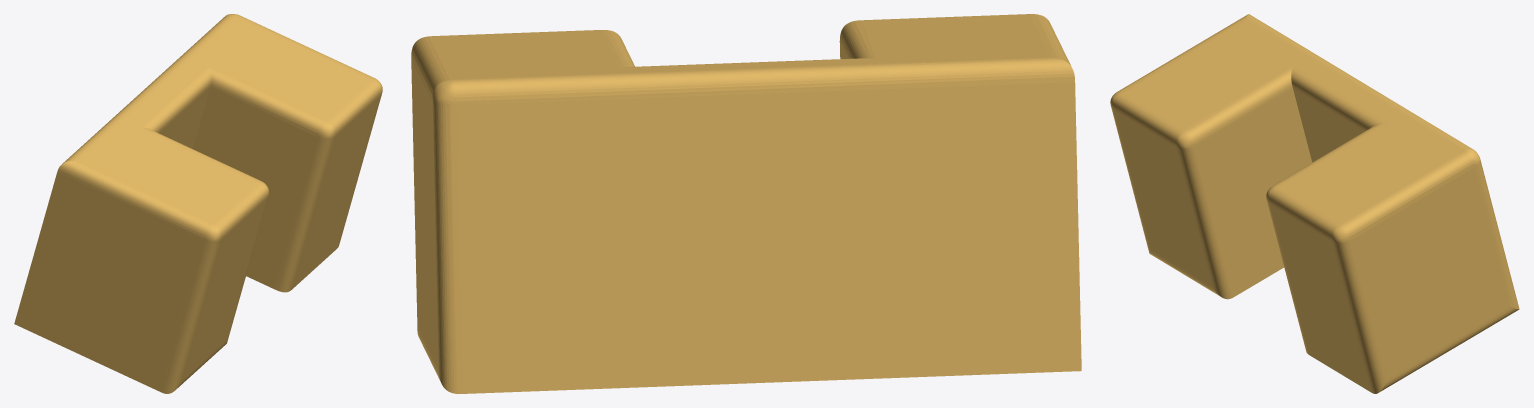
File: Unnamed-concave_obstacle.dae
The picture shows the model from 3 angles, left to right: view 1: azimuth 30°, elevation 25°; view 2: azimuth 150°, elevation 25°; view 3: azimuth 270°, elevation 25°; orthographic projection. The views are drawn at different scales.
Visible parts, largest first — view 1: node0; view 2: node0; view 3: node0.
Boxes of the visible parts, x1=… form: node0: x1=14, y1=14, x2=382, y2=393; node0: x1=411, y1=14, x2=1081, y2=393; node0: x1=1110, y1=14, x2=1519, y2=393.
Size of the model in its own units: 10.03 by 8.96 by 5.2.
